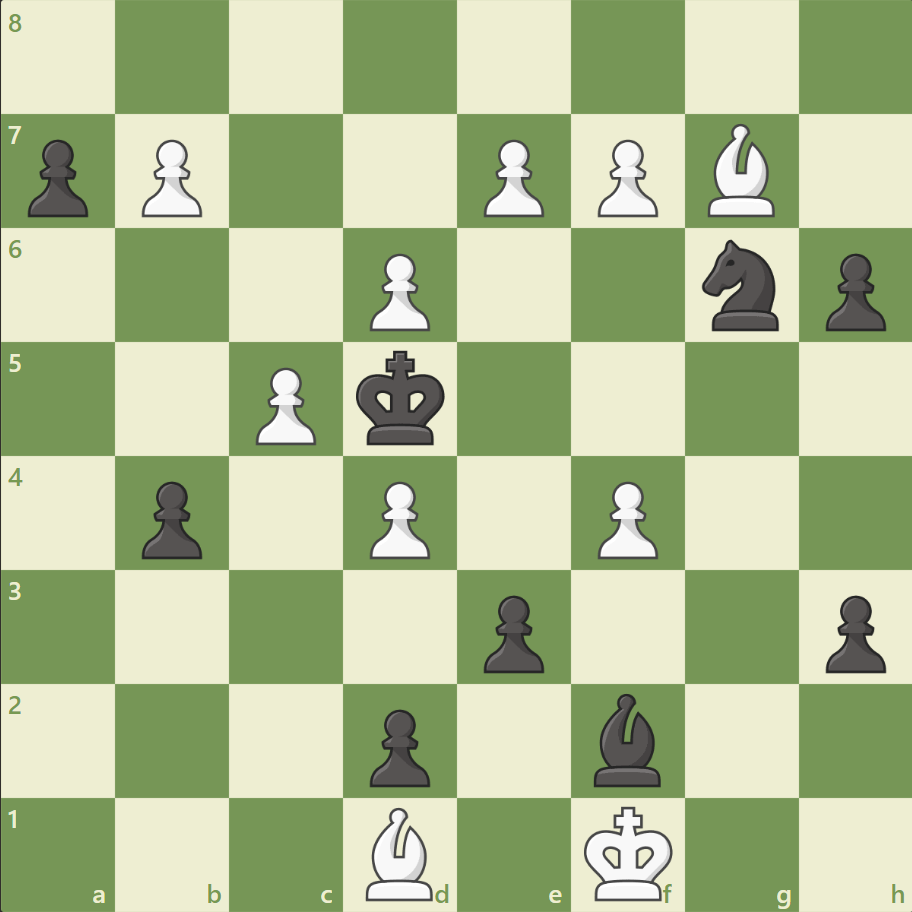B: (358, 801, 442, 904), (698, 120, 782, 222)
K: (579, 798, 679, 906)
P: (133, 132, 208, 223), (474, 132, 549, 223), (247, 359, 322, 450), (588, 132, 662, 223), (361, 246, 435, 337), (361, 473, 435, 564), (588, 473, 662, 564)
b: (585, 687, 669, 790)
k: (351, 344, 451, 452)
n: (692, 234, 789, 337)
p: (20, 132, 95, 223), (133, 473, 208, 564), (474, 586, 549, 677), (815, 246, 889, 337), (815, 586, 889, 677), (361, 700, 435, 791)
